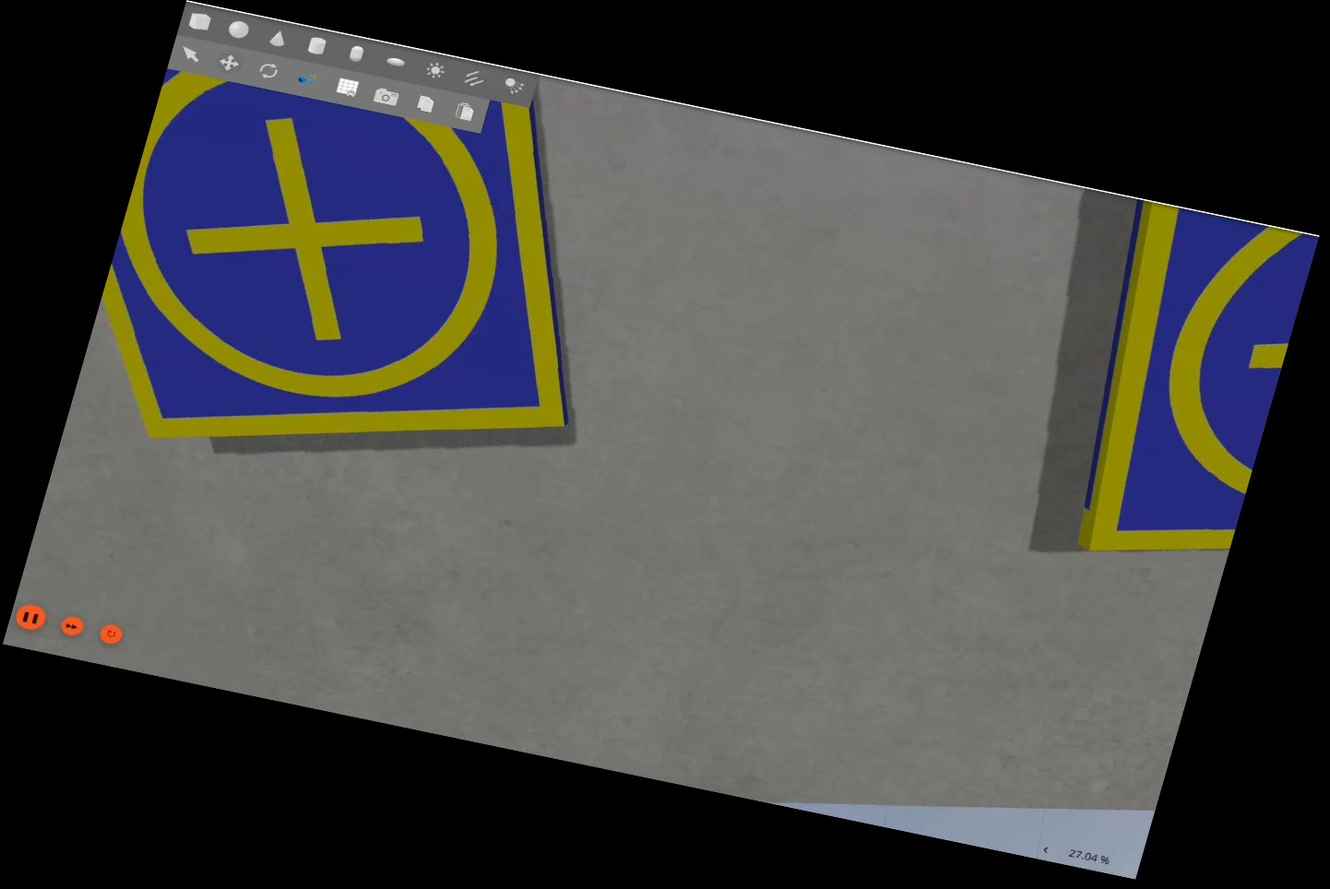small_base: (67, 6, 663, 516), (1041, 198, 1320, 576)
